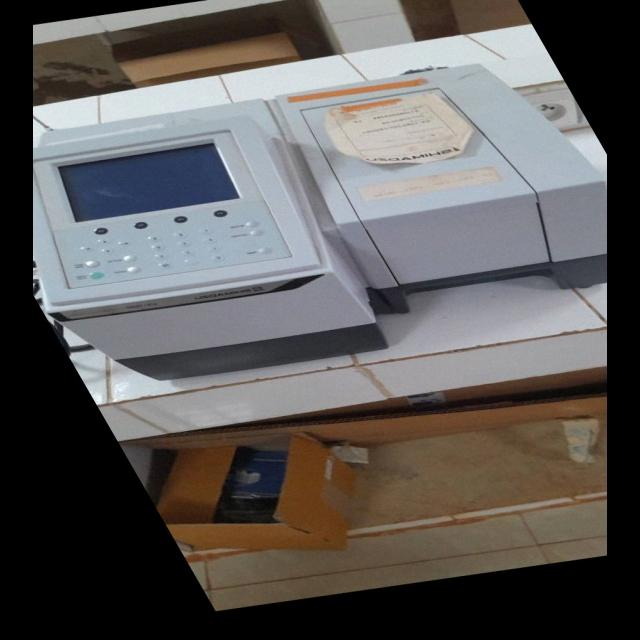Spectrophotometer: (33, 54, 607, 390)
